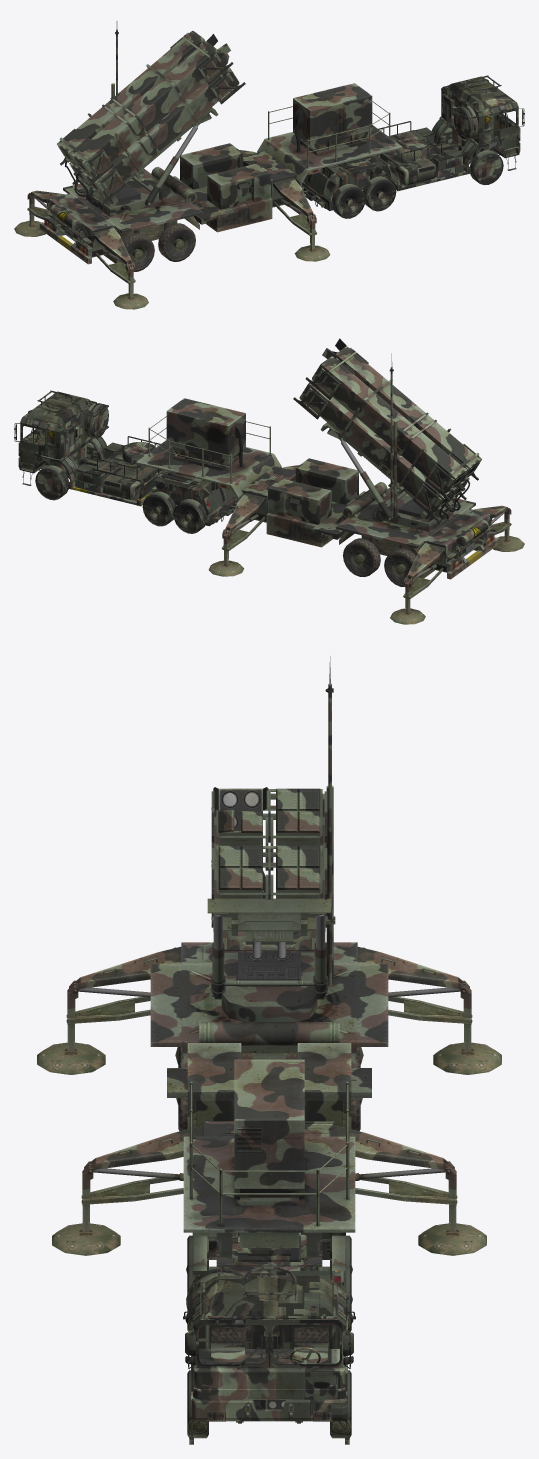
The model's file is .blend.fbx.
The picture shows the model from 3 angles, top to bottom: view 1: azimuth 30°, elevation 25°; view 2: azimuth 150°, elevation 25°; view 3: azimuth 270°, elevation 25°; orthographic projection. The views are drawn at different scales.
Visible parts, largest first — view 1: PAC3.001; view 2: PAC3.001; view 3: PAC3.001.
Boxes of the visible parts, box(x1,y1,x2,y2) form: PAC3.001: box(14, 21, 524, 309); PAC3.001: box(14, 338, 524, 624); PAC3.001: box(37, 656, 501, 1444).
Size of the model in its own units: 2257 by 1107 by 1024.
